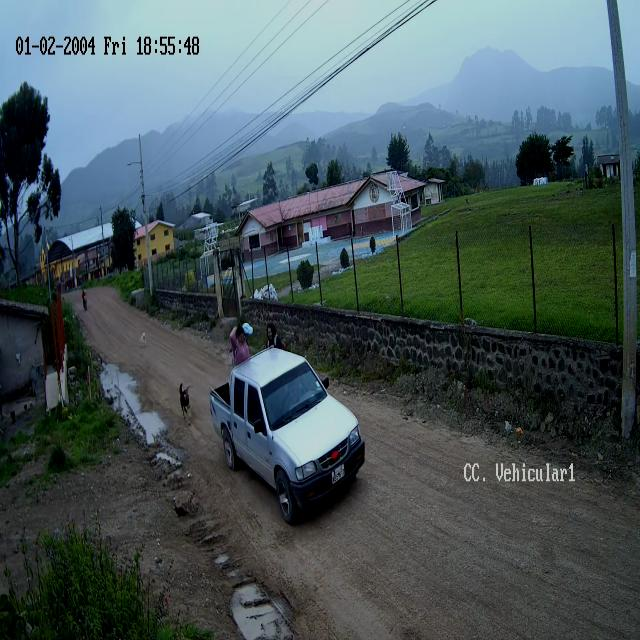CMT: (210, 348, 365, 525)
